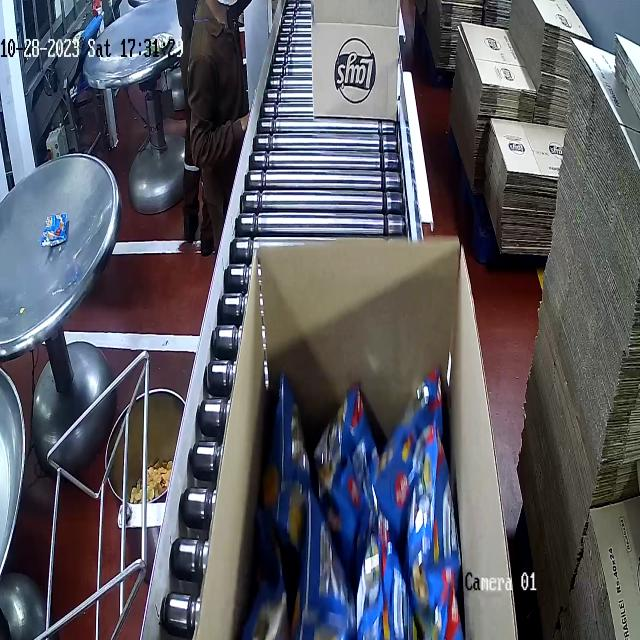PAPRIKA: (257, 361, 455, 640)
